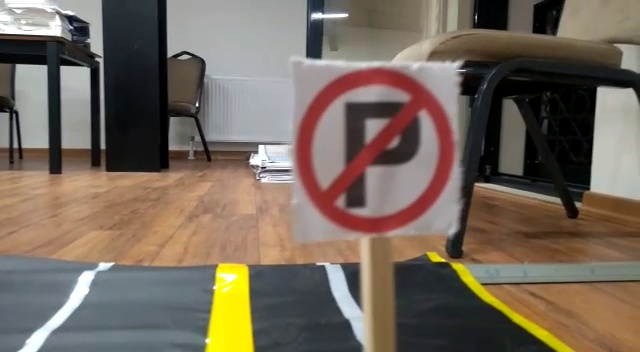park_yapilmaz: (291, 62, 455, 236)
